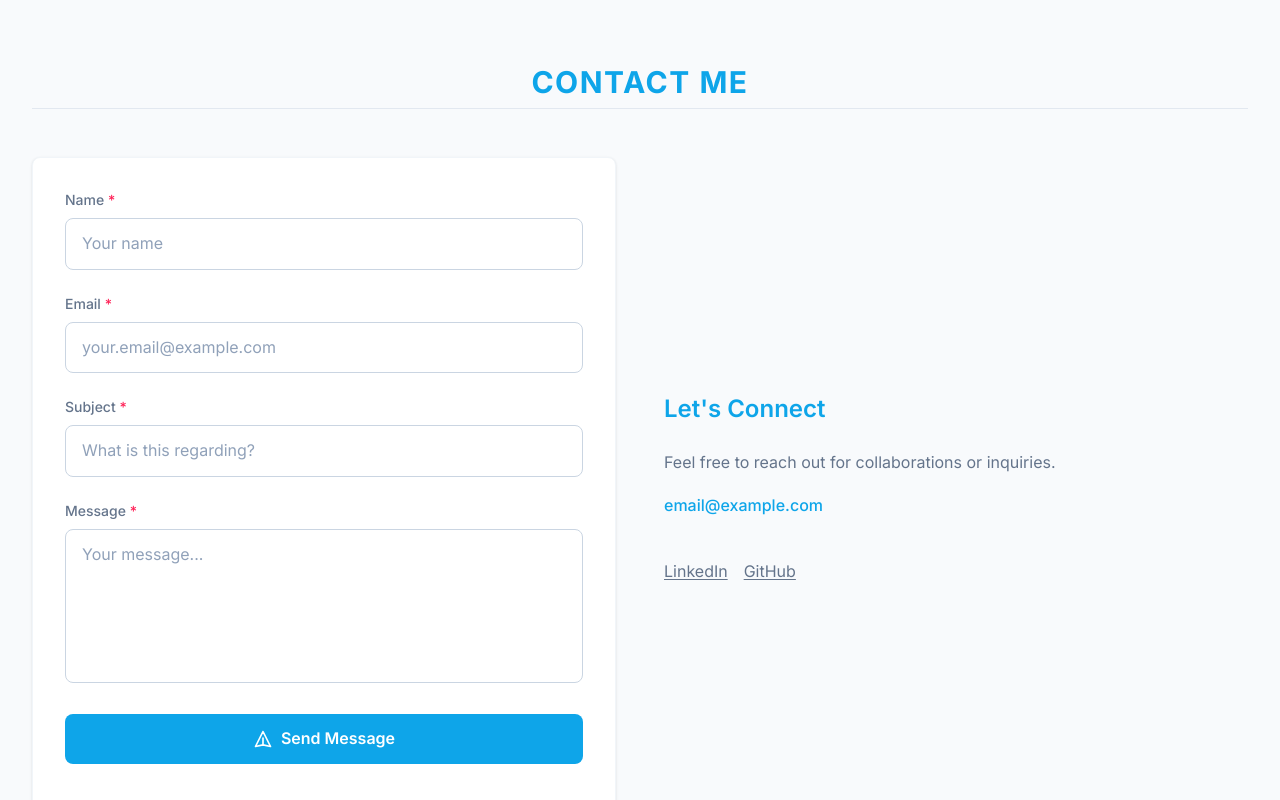
Test: ContactSection Component › shows success state after successful submission
In the field labelled "Name *": (324, 244) [65,218,583,270], type "John Doe"
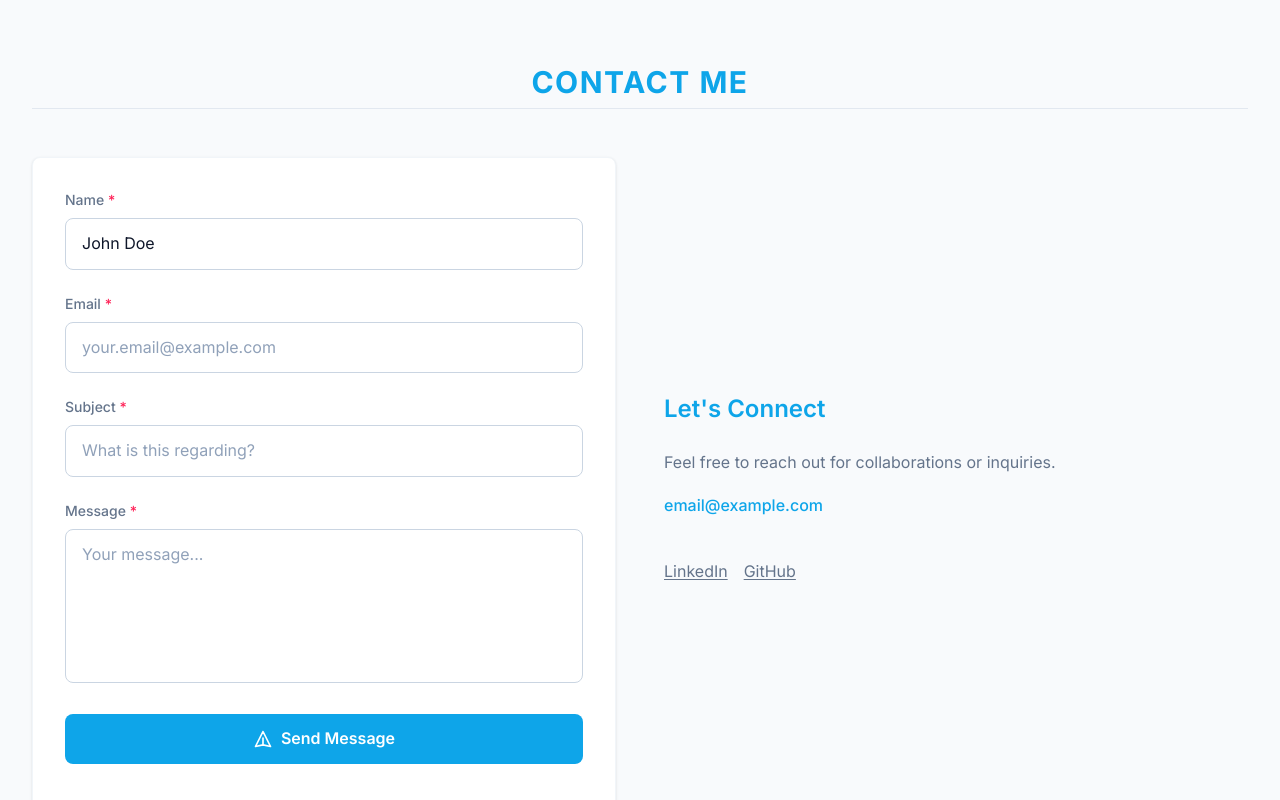
In the field labelled "Email *": (324, 347) [65,322,583,373], type "john@example.com"
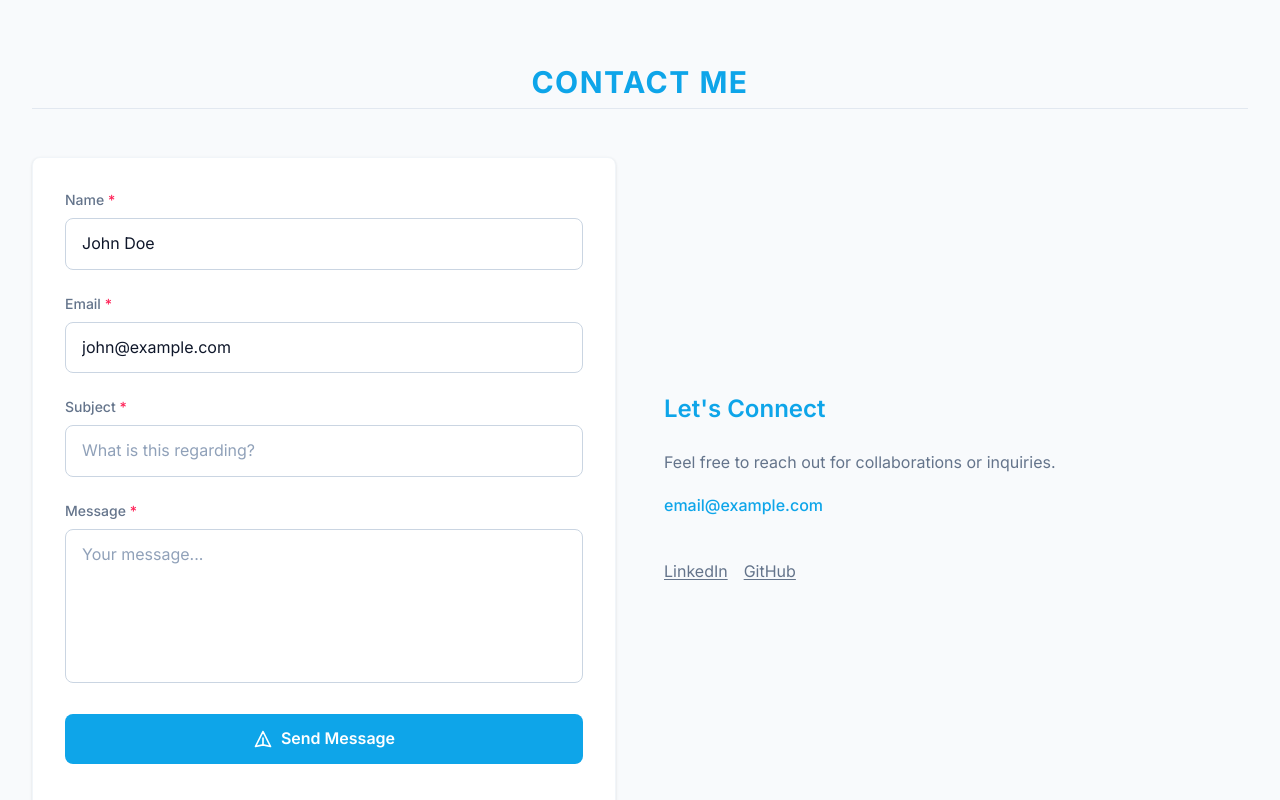
In the field labelled "Subject *": (324, 451) [65,425,583,477], type "Test"
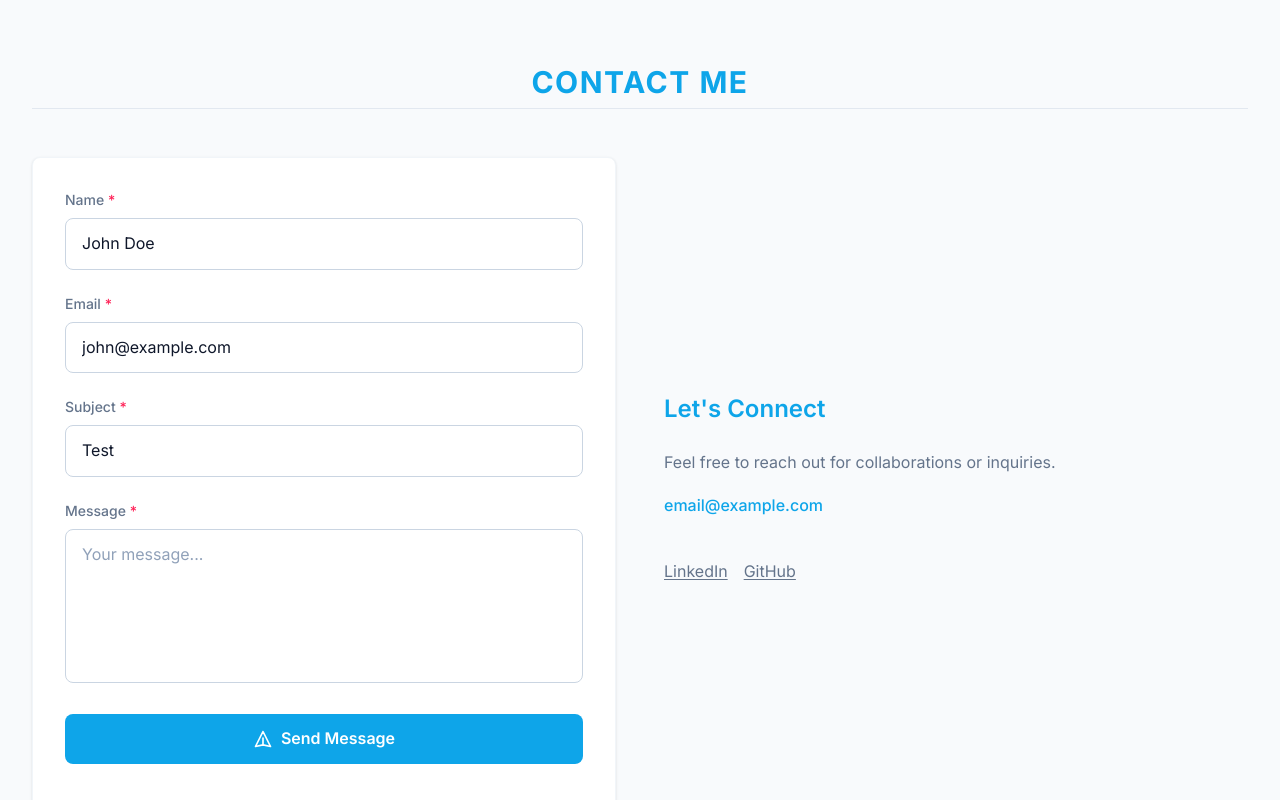
In the text box labelled "Message *": (324, 606) [65,529,583,683], type "Test message content"
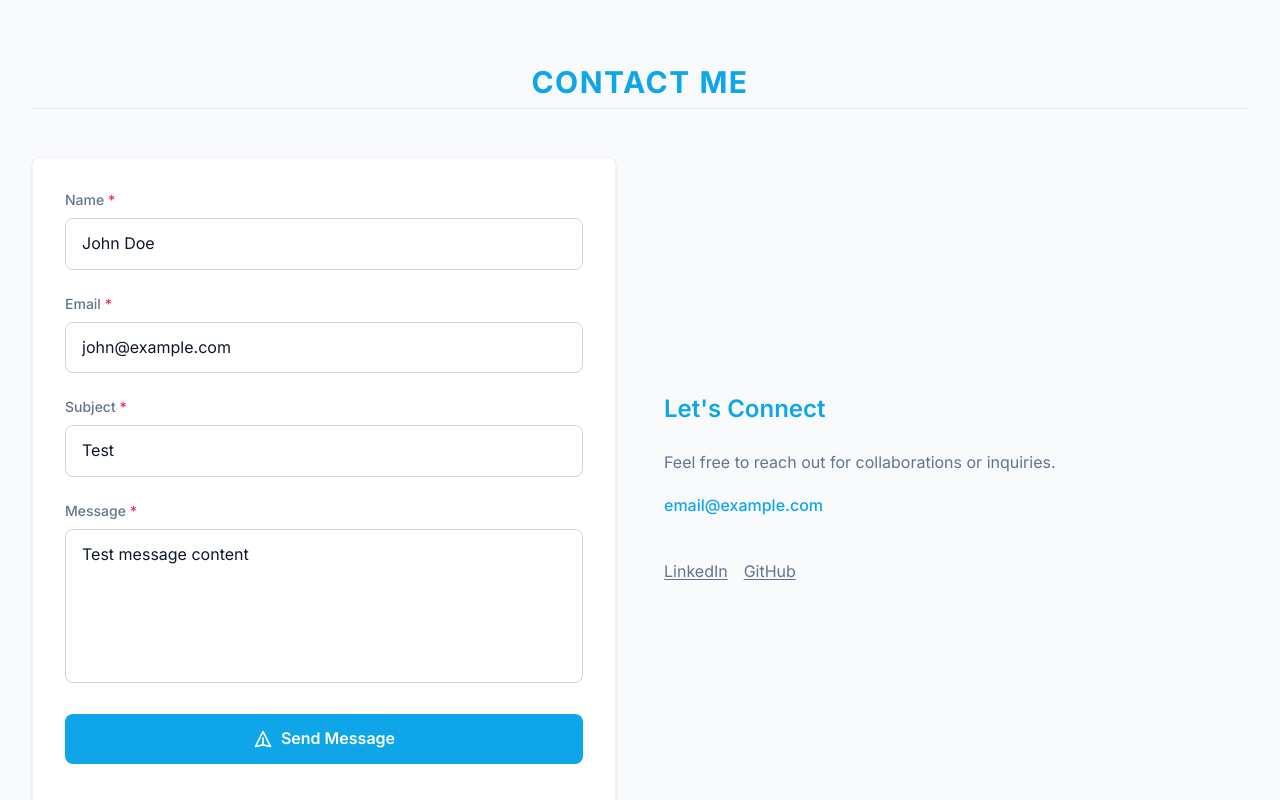
Click the button "Send Message": (324, 739) [65,714,583,764]
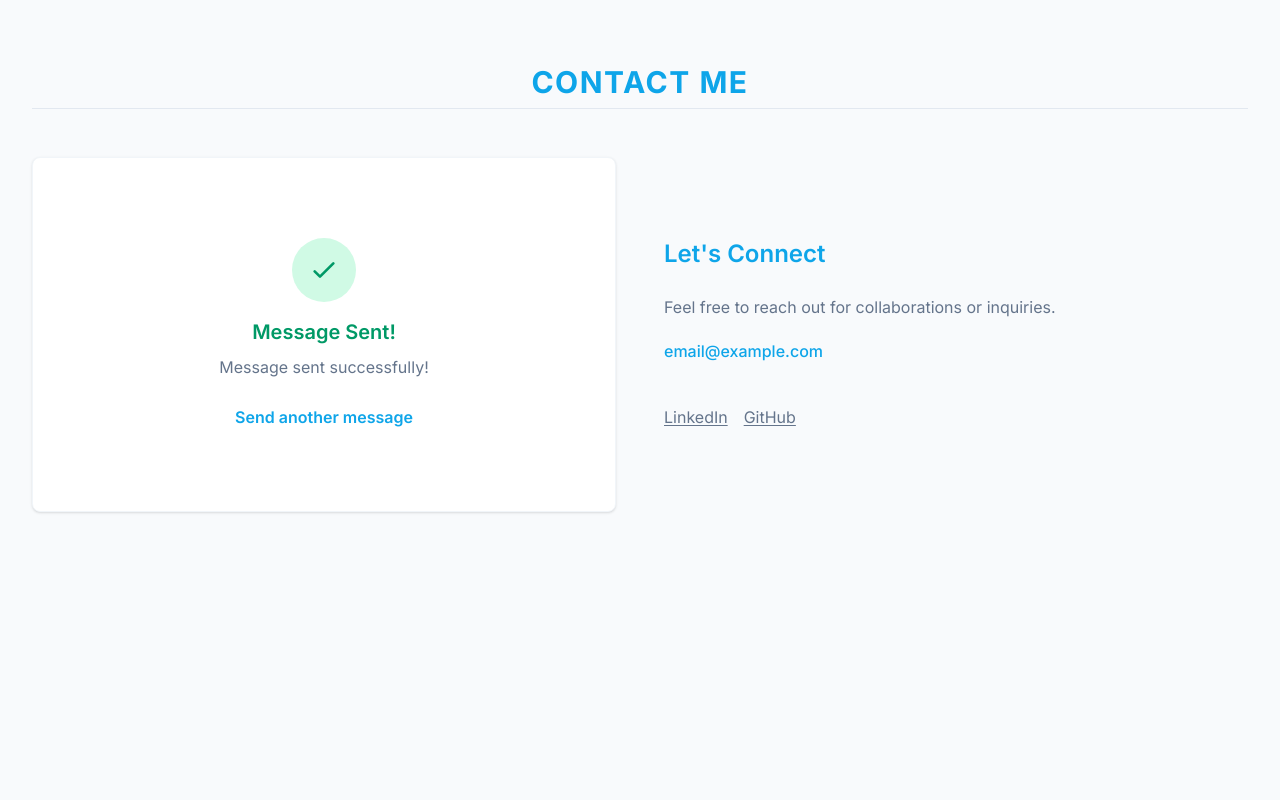
Expected: the heading "Message Sent!" is shown, [252,320,396,344]
Expected: the text "Message sent successfully!" is shown, [219,357,429,377]
